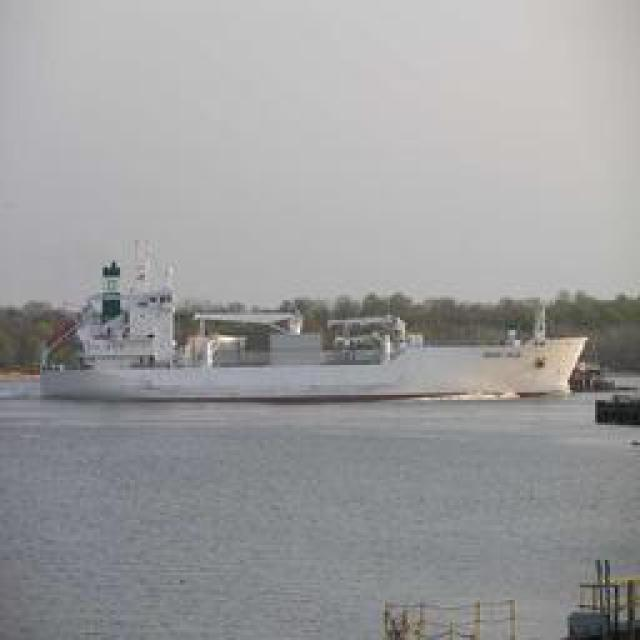Ship: (52, 315, 595, 405)
